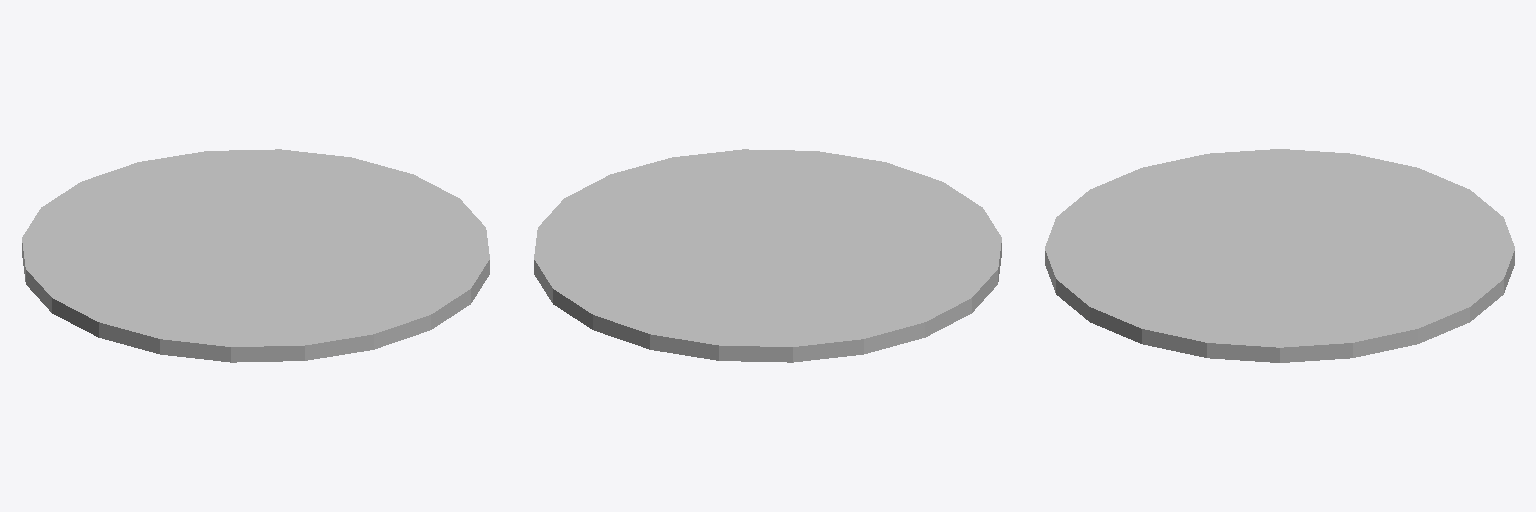
The model's file is Platform.obj.
The picture shows the model from 3 angles: view 1: azimuth 30°, elevation 25°; view 2: azimuth 150°, elevation 25°; view 3: azimuth 270°, elevation 25°; orthographic projection.
Bounding box in the file's own units: 17.27 × 0.6241 × 17.27.